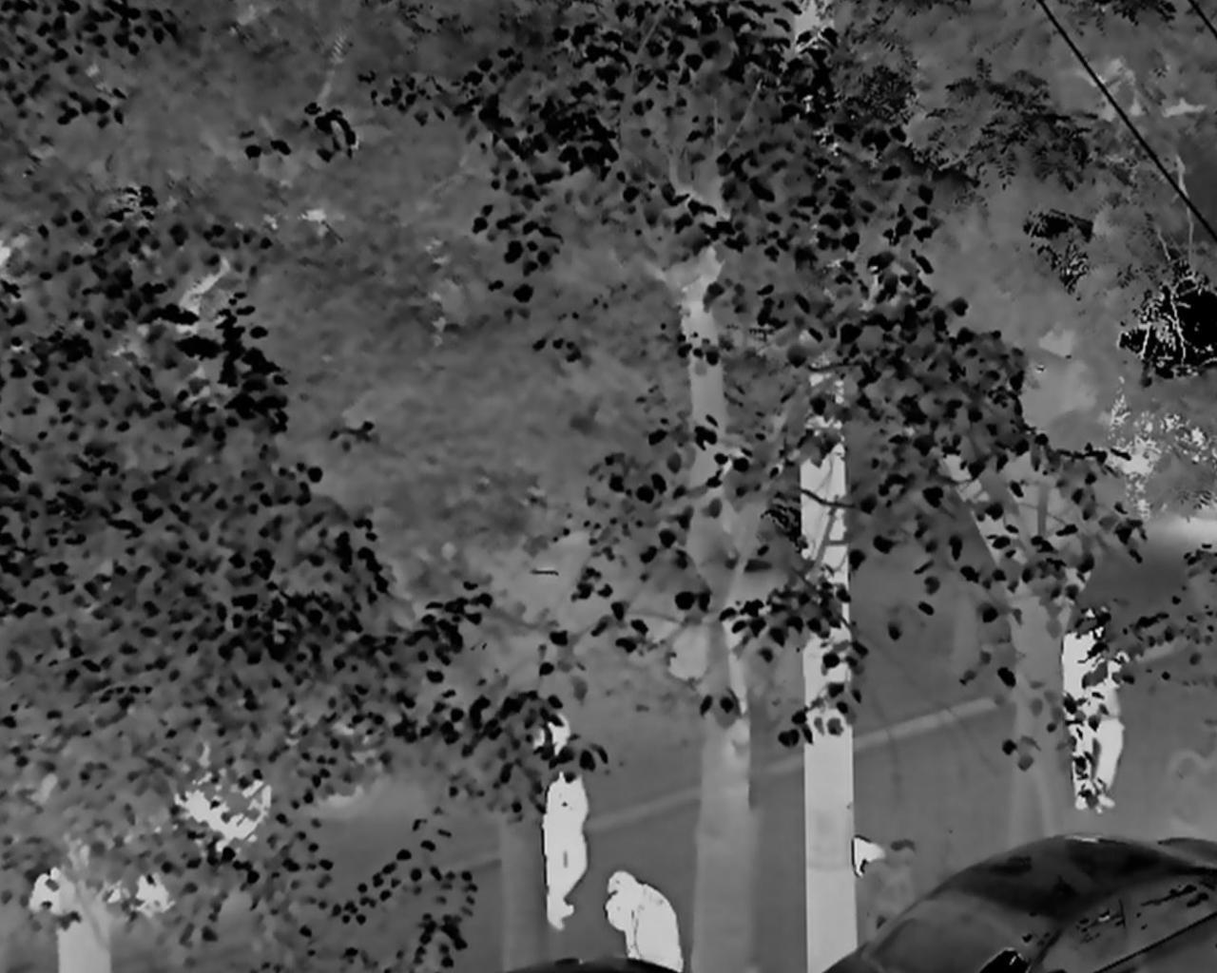person: (1063, 604, 1132, 817), (534, 710, 591, 935), (603, 868, 682, 973)
